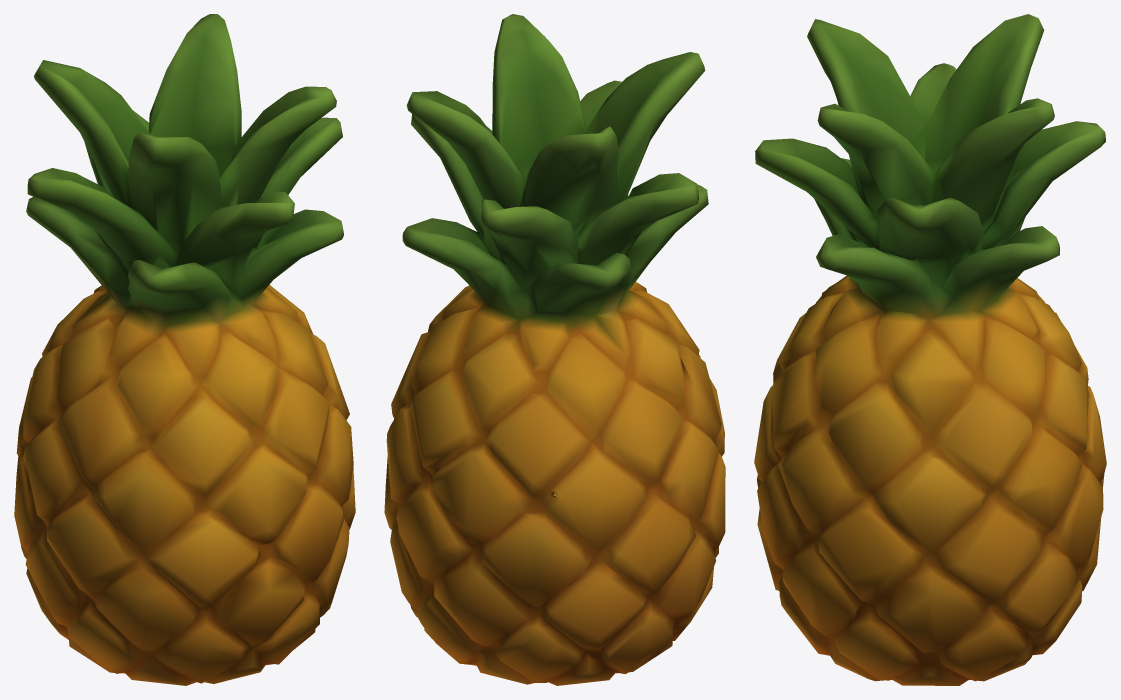
File: meshy-pineapple.glb
3 views of the same model, side by side, from view 1: azimuth 30°, elevation 25°; view 2: azimuth 150°, elevation 25°; view 3: azimuth 270°, elevation 25° (orthographic). The views are drawn at different scales.
Visible parts, largest first — view 1: Mesh_0; view 2: Mesh_0; view 3: Mesh_0.
Boxes of the visible parts, bbox=[...] form: Mesh_0: bbox=[14, 14, 355, 685]; Mesh_0: bbox=[384, 14, 725, 685]; Mesh_0: bbox=[754, 14, 1106, 685].
Bounding box in the file's own units: 1.05 × 1.91 × 1.05.
